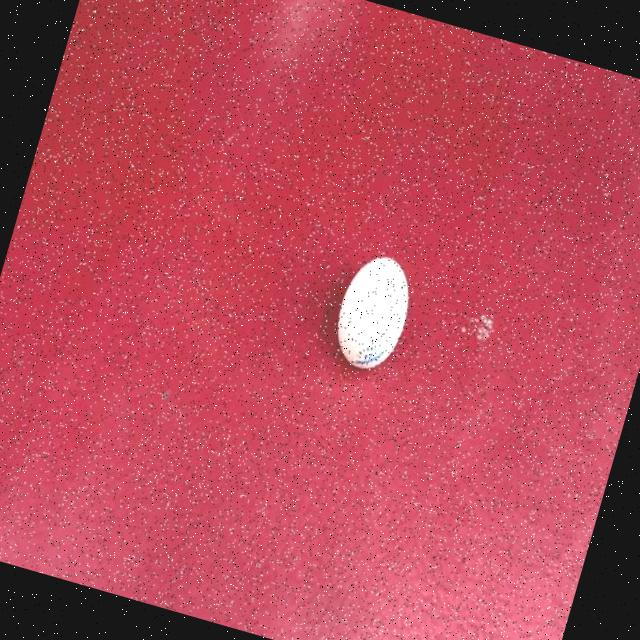ping-pong-ball: (319, 240, 425, 385)
